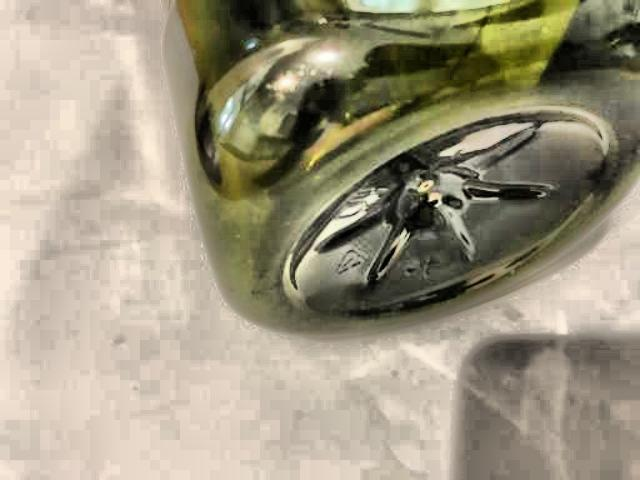Plastic: (125, 0, 640, 340)
